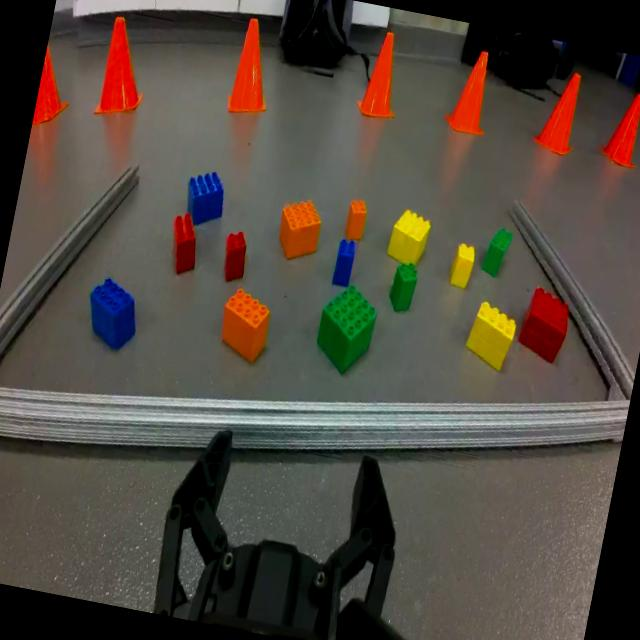block: (459, 298, 521, 373), (386, 205, 434, 268), (448, 241, 480, 294)
blue: (77, 271, 146, 359), (179, 164, 231, 228), (332, 238, 358, 286)
cone: (90, 10, 160, 128), (222, 13, 287, 124), (442, 41, 500, 142), (354, 27, 410, 126), (532, 64, 588, 160), (31, 46, 80, 135), (597, 82, 640, 173)
green: (311, 280, 384, 382), (480, 220, 516, 280), (389, 263, 420, 314)
metal barrier: (0, 195, 635, 453)
orange: (214, 283, 276, 367), (274, 195, 326, 268), (344, 200, 370, 244)
red goal: (514, 284, 574, 366), (164, 210, 207, 278), (218, 226, 252, 285)
